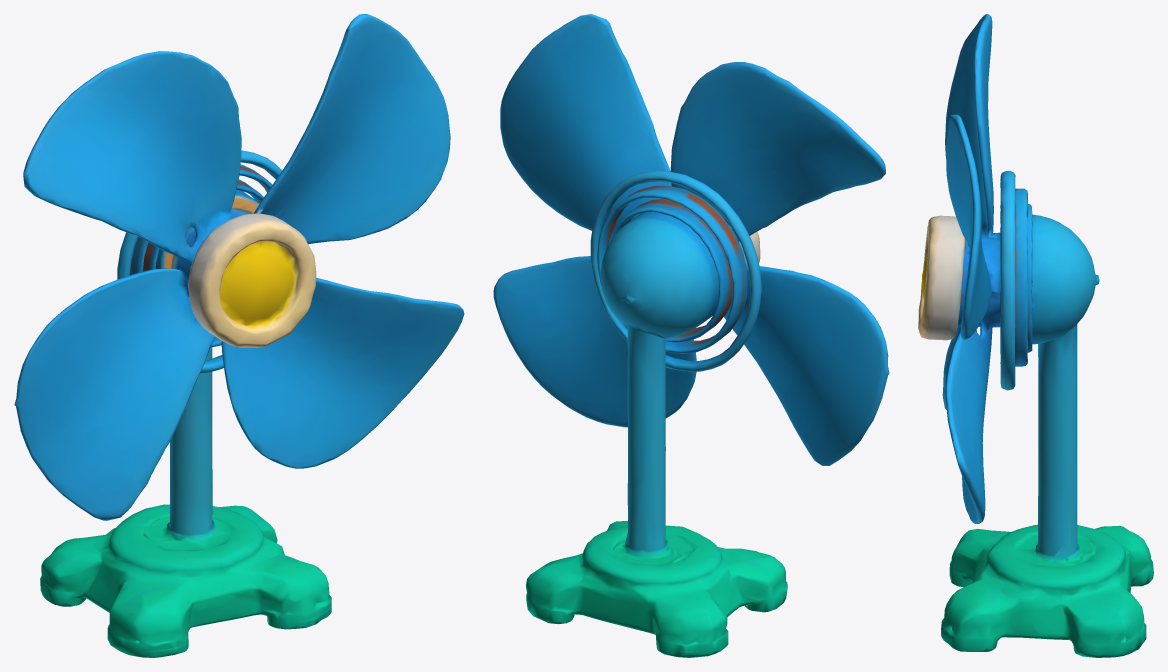
Rendered from fan.glb.
3 views of the same model, side by side, from view 1: azimuth 30°, elevation 25°; view 2: azimuth 150°, elevation 25°; view 3: azimuth 270°, elevation 25° (orthographic). The views are drawn at different scales.
Parts seen in each view (by area): view 1: tripo_node_21fcc139-44c1-435e-9102-da597bbcfdcf; view 2: tripo_node_21fcc139-44c1-435e-9102-da597bbcfdcf; view 3: tripo_node_21fcc139-44c1-435e-9102-da597bbcfdcf.
Boxes of the visible parts, box(x1,y1,x2,y2) form: tripo_node_21fcc139-44c1-435e-9102-da597bbcfdcf: box(14, 14, 464, 657); tripo_node_21fcc139-44c1-435e-9102-da597bbcfdcf: box(493, 14, 889, 657); tripo_node_21fcc139-44c1-435e-9102-da597bbcfdcf: box(918, 14, 1153, 657).
Size of the model in its own units: 0.7834 by 1 by 0.3888.
Materials: 1 (1 with a texture image).
